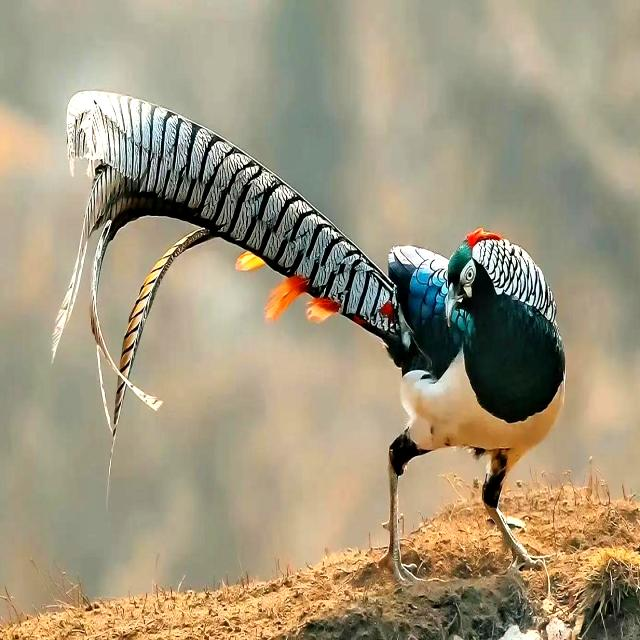Chrysolophus amherstiae: (54, 91, 399, 345)
